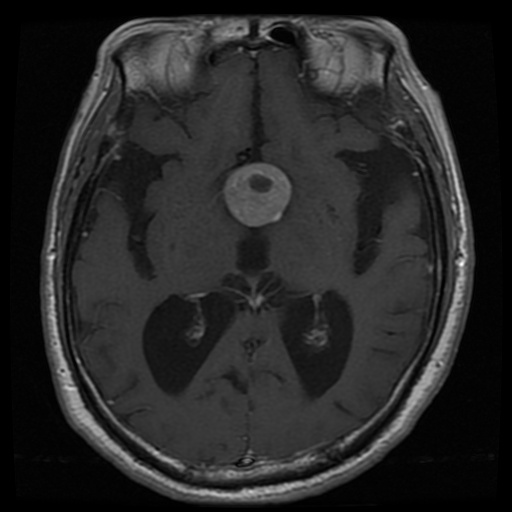pituitary: (224, 161, 293, 227)
